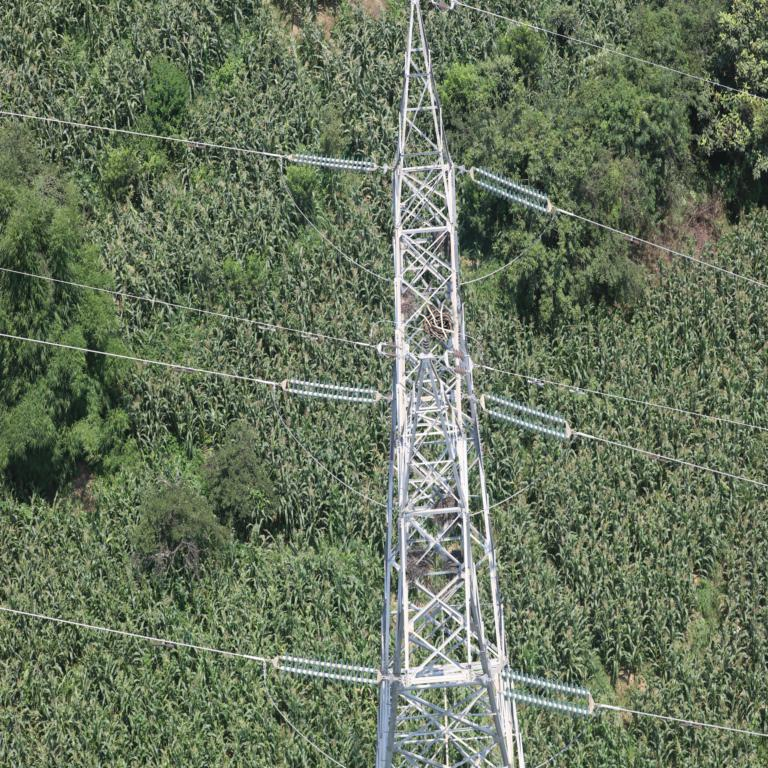nest: (398, 550, 435, 585), (421, 307, 455, 345)
